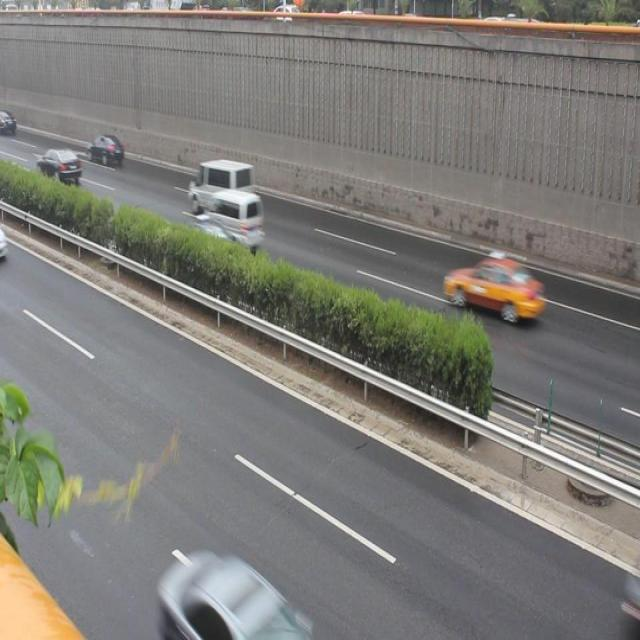car: (150, 537, 317, 640), (436, 251, 547, 325), (171, 218, 239, 268), (36, 142, 82, 186), (83, 132, 123, 170)
truck: (188, 150, 250, 211), (204, 190, 266, 249)
